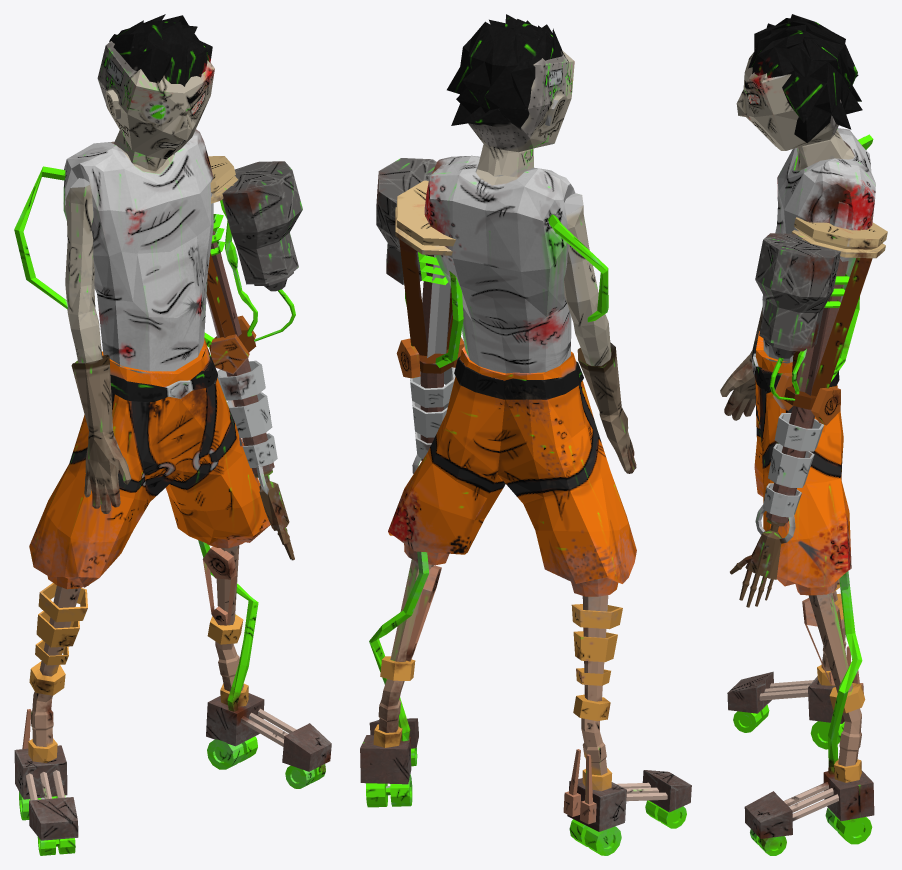
The model's file is CyborgFINALAnimation_000050.obj.
3 renders of one model, left to right at view 1: azimuth 30°, elevation 25°; view 2: azimuth 150°, elevation 25°; view 3: azimuth 270°, elevation 25°, orthographic. The views are drawn at different scales.
Parts seen in each view (by area): view 1: CyborgMesh_Cube.002; view 2: CyborgMesh_Cube.002; view 3: CyborgMesh_Cube.002.
Boxes of the visible parts, x1,y1,x2,y2 form: CyborgMesh_Cube.002: [14, 14, 331, 855]; CyborgMesh_Cube.002: [360, 14, 691, 855]; CyborgMesh_Cube.002: [720, 14, 887, 855].
Bounding box in the file's own units: 3.85 × 9.64 × 1.91.
